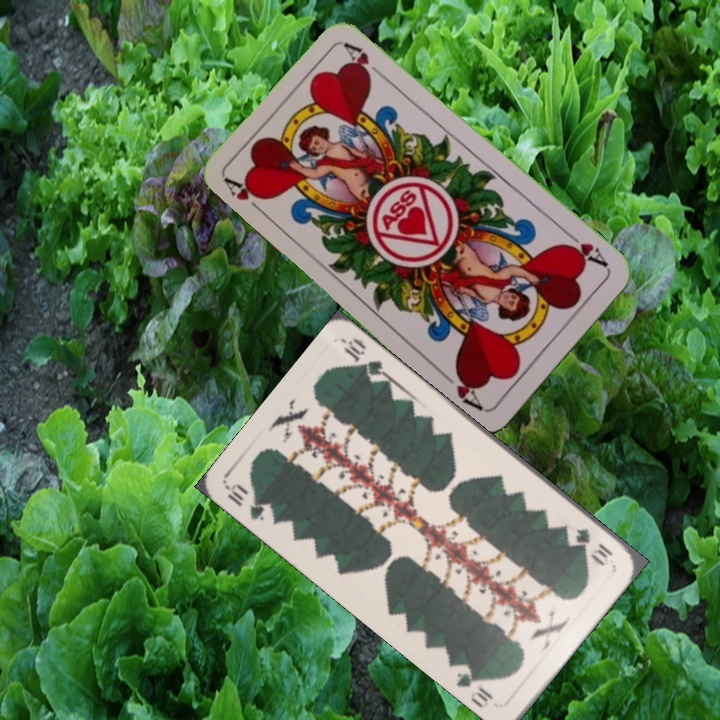G10: (222, 479, 277, 524), (571, 523, 616, 569)
HA: (559, 229, 612, 273), (221, 174, 270, 219)
